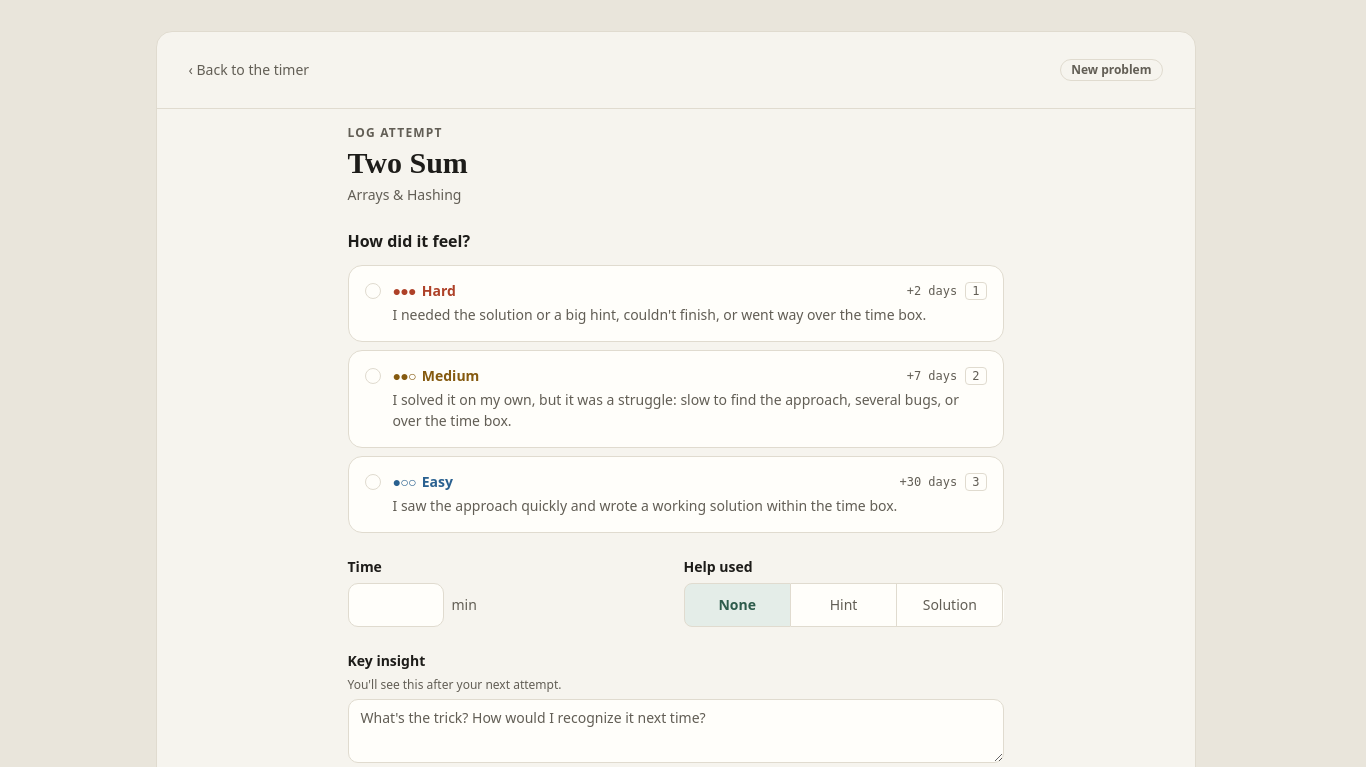
LogPage form › won't save with a time of 0
Click the radio button named "Medium" next to "Medium" at (372, 376), box [364, 368, 380, 384]
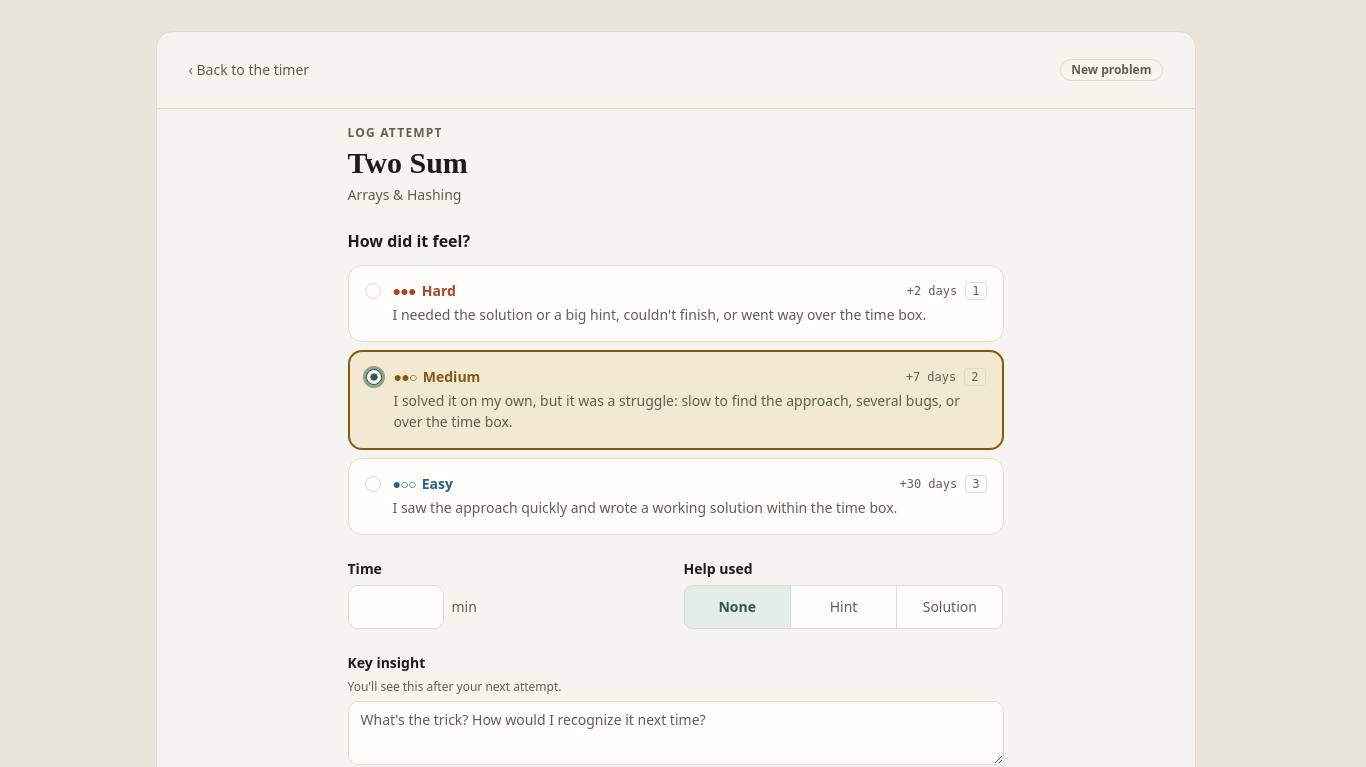
Type "0" into the number field labelled "Time" at (396, 607), box [348, 585, 444, 629]
(page scrolled)
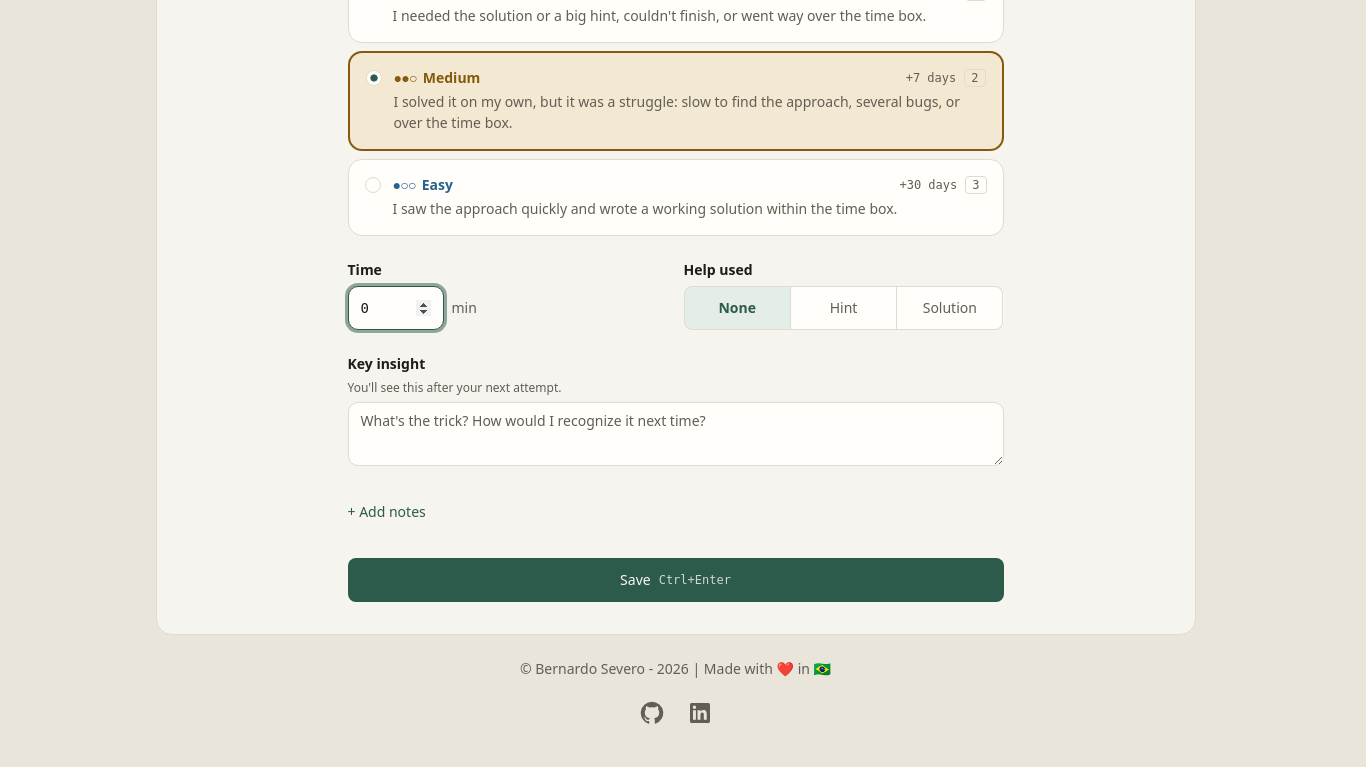
Click the button "Save Ctrl+Enter" at (676, 580), box [348, 558, 1004, 602]
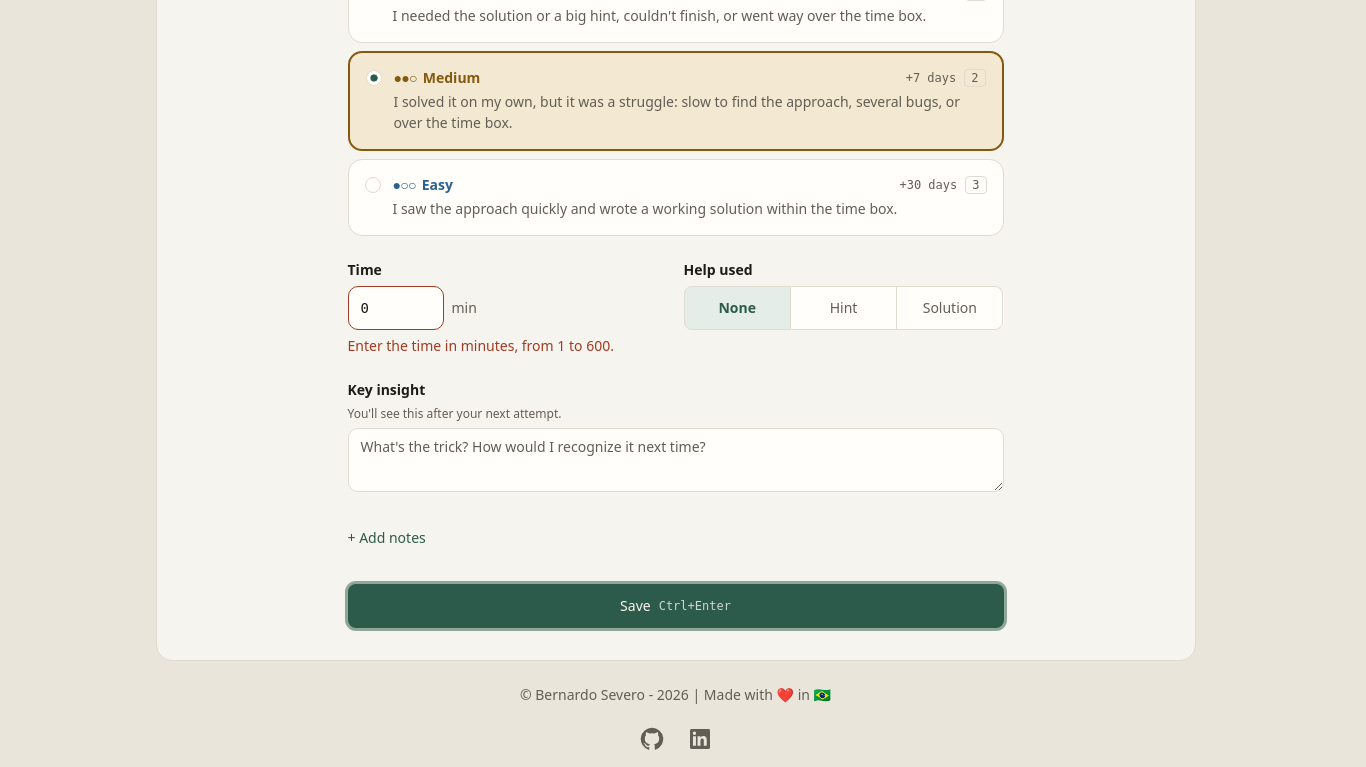
Result: the text "Enter the time in minutes, from 1 to 600." is shown at [348, 336, 614, 355]
